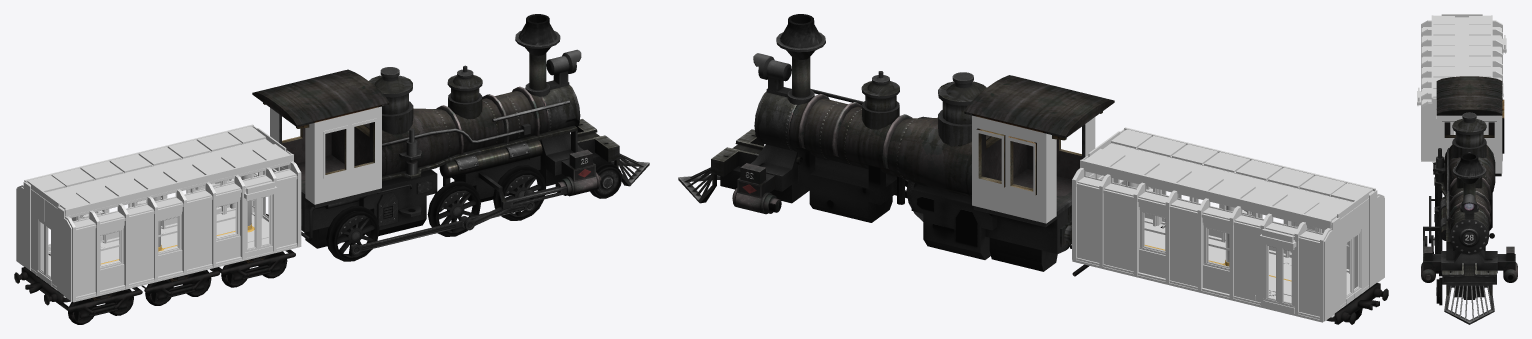
File: SC03_TRAIN_RIDE_v17_Export.fbx
The picture shows the model from 3 angles, left to right: view 1: azimuth 30°, elevation 25°; view 2: azimuth 150°, elevation 25°; view 3: azimuth 270°, elevation 25°; orthographic projection. The views are drawn at different scales.
Visible parts, largest first — view 1: Cube.226, Cube.218, Cube.223, Cube.015, Old_Dusty_Bookshelf.007, Old_Dusty_Bookshelf.006, Cube.057, Cube.105, Old_Dusty_Bookshelf.008, Old_Dusty_Bookshelf.020, Cube.088, Cube.090 (+22 smaller); view 2: Cube.226, Cube.218, Cube.015, Old_Dusty_Bookshelf.018, Old_Dusty_Bookshelf.022, Old_Dusty_Bookshelf.019, Old_Dusty_Bookshelf.010, Cube.090, Old_Dusty_Bookshelf.015, Cube.088, Cube.176, Cube.059 (+30 smaller); view 3: Cube.226, Cube.218, Cube.098, Cube.015, Cube.013, Cube.160, Cube.018, Cube.044, Cube.162, Cube.007, Cube.010, Cube.014 (+7 smaller).
Part boxes in pixels (left/top/right/bottom): Cube.226: left=263, top=14, right=649, bottom=261; Cube.218: left=252, top=69, right=389, bottom=204; Cube.223: left=14, top=214, right=295, bottom=324; Cube.015: left=45, top=139, right=272, bottom=197; Old_Dusty_Bookshelf.007: left=187, top=200, right=211, bottom=269; Old_Dusty_Bookshelf.006: left=129, top=214, right=153, bottom=283; Cube.057: left=149, top=189, right=182, bottom=276; Cube.105: left=91, top=203, right=124, bottom=290; Old_Dusty_Bookshelf.008: left=276, top=179, right=296, bottom=247; Old_Dusty_Bookshelf.020: left=76, top=228, right=95, bottom=296; Cube.088: left=57, top=206, right=71, bottom=301; Cube.090: left=16, top=181, right=30, bottom=270; Cube.226: left=678, top=14, right=1102, bottom=271; Cube.218: left=964, top=75, right=1114, bottom=223; Cube.015: left=1103, top=143, right=1352, bottom=208; Old_Dusty_Bookshelf.018: left=1103, top=193, right=1133, bottom=271; Old_Dusty_Bookshelf.022: left=1170, top=209, right=1197, bottom=286; Old_Dusty_Bookshelf.019: left=1234, top=225, right=1260, bottom=302; Old_Dusty_Bookshelf.010: left=1077, top=187, right=1099, bottom=262; Cube.090: left=1323, top=217, right=1339, bottom=321; Old_Dusty_Bookshelf.015: left=1299, top=241, right=1319, bottom=316; Cube.088: left=1369, top=190, right=1384, bottom=287; Cube.176: left=1080, top=159, right=1331, bottom=224; Cube.059: left=1203, top=222, right=1229, bottom=294; Cube.226: left=1421, top=112, right=1517, bottom=324; Cube.218: left=1436, top=76, right=1504, bottom=173; Cube.098: left=1421, top=98, right=1436, bottom=160; Cube.015: left=1455, top=17, right=1468, bottom=76; Cube.013: left=1433, top=45, right=1454, bottom=56; Cube.160: left=1469, top=45, right=1490, bottom=56; Cube.018: left=1433, top=66, right=1454, bottom=77; Cube.044: left=1431, top=15, right=1433, bottom=99; Cube.162: left=1469, top=66, right=1490, bottom=77; Cube.007: left=1469, top=25, right=1490, bottom=35; Cube.010: left=1433, top=35, right=1454, bottom=45; Cube.014: left=1433, top=56, right=1454, bottom=66.
Size of the model in its own units: 2429 by 655 by 457.
